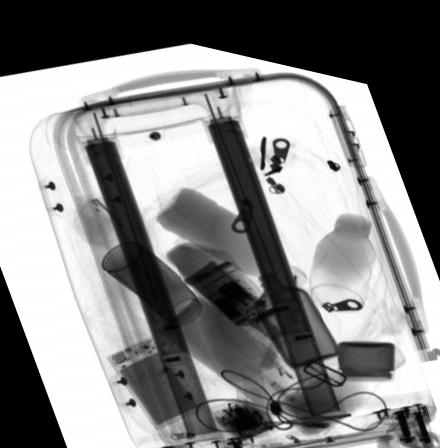Powerbank: (105, 328, 205, 420)
